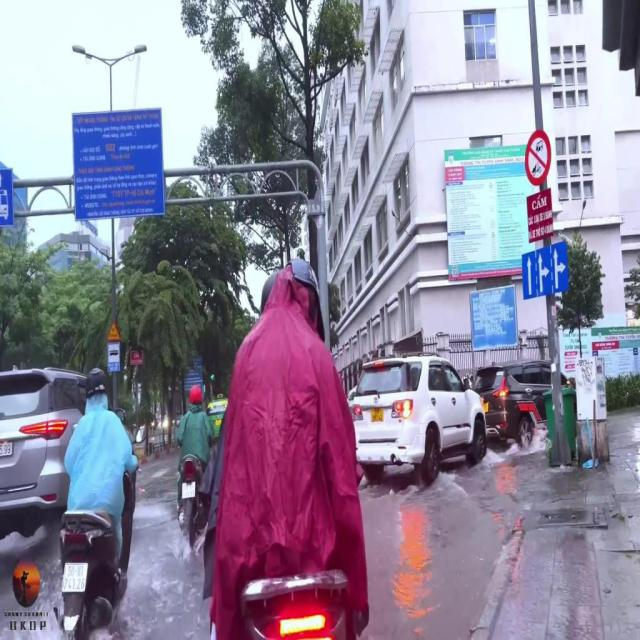cam_cac_loai_xe_3_banh: (524, 130, 554, 186)
di_cham: (107, 320, 121, 341)
huong_di_tren_moi_lan_duong_theo_vach_ke_duong: (521, 242, 569, 300)
khac: (108, 343, 120, 372)
